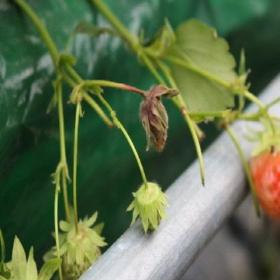Gray Mold: (130, 84, 180, 153)
